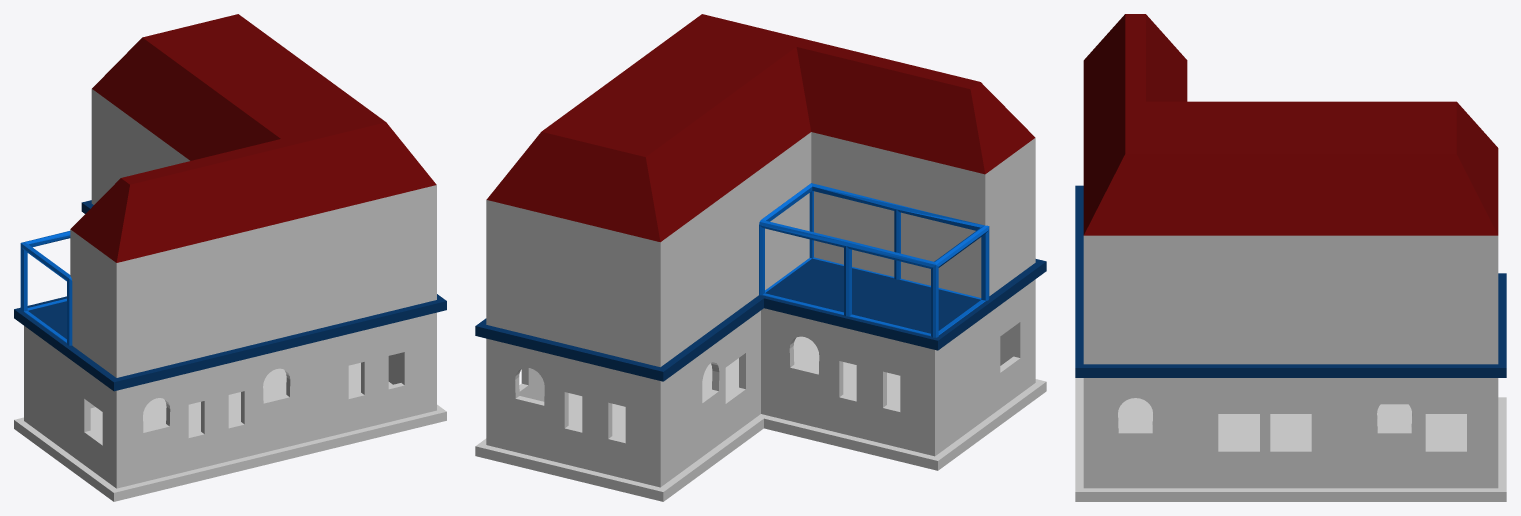
The model's file is HouProcBuilding.fbx.
3 views of the same model, side by side, from view 1: azimuth 30°, elevation 25°; view 2: azimuth 150°, elevation 25°; view 3: azimuth 270°, elevation 25° (orthographic). The views are drawn at different scales.
Parts seen in each view (by area): view 1: Proc_Building; view 2: Proc_Building; view 3: Proc_Building.
Boxes of the visible parts, x1,y1,x2,y2 form: Proc_Building: (14, 14, 446, 501); Proc_Building: (475, 14, 1046, 501); Proc_Building: (1075, 14, 1506, 501).
Bounding box in the file's own units: 10.4 × 8.7 × 10.4.
